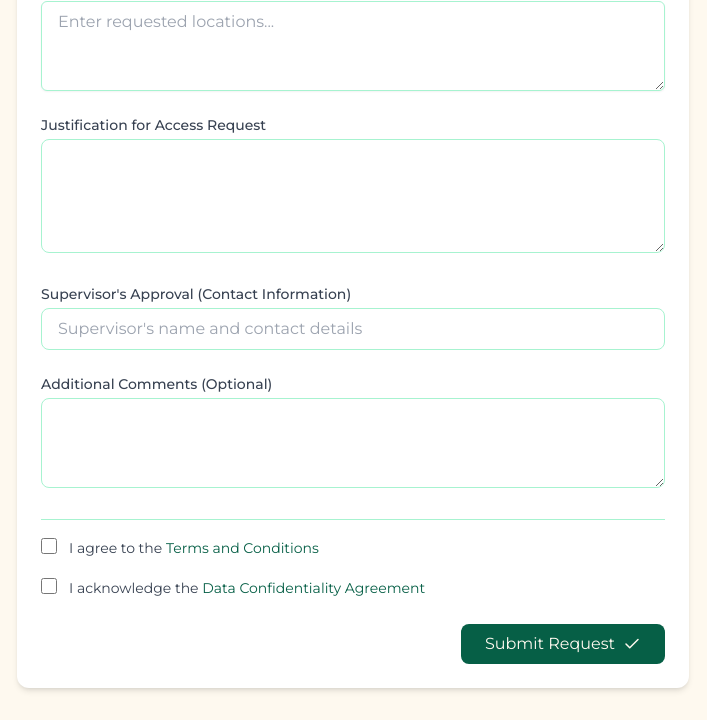
Test: LocationRequest Component › shows validation errors on empty submission
(page scrolled)
Click the button "Submit Request": click(563, 644) [461,624,665,664]
(page scrolled)
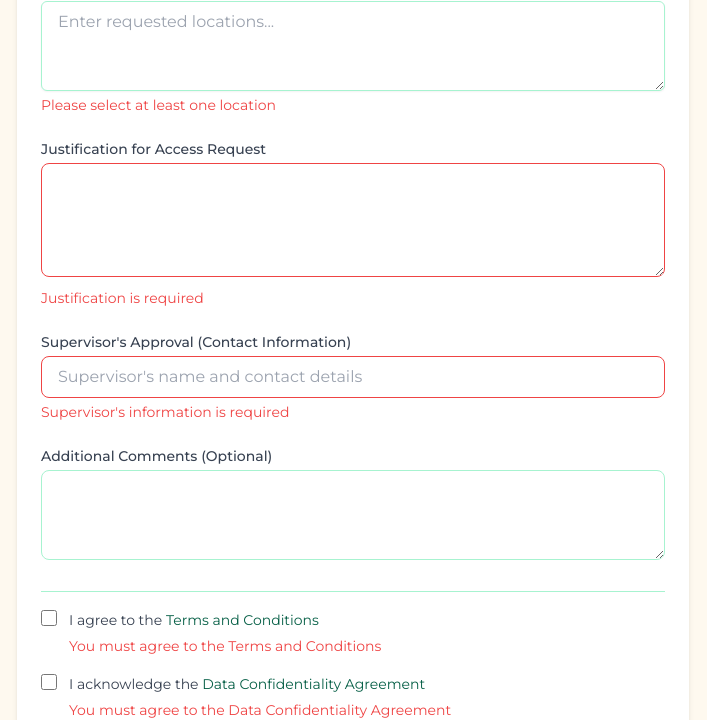
Now the text "Please select at least one location" is shown, box [41,96,276,114]
Now the text "Justification is required" is shown, box [41,289,204,307]
Now the text "Supervisor's information is required" is shown, box [41,403,290,421]
